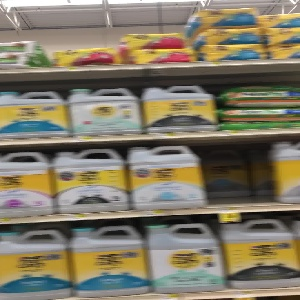void: (197, 135, 280, 209)
